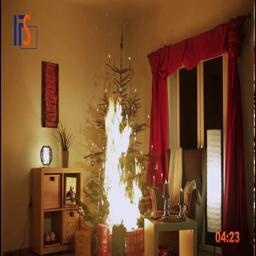fire: (95, 82, 155, 229)
